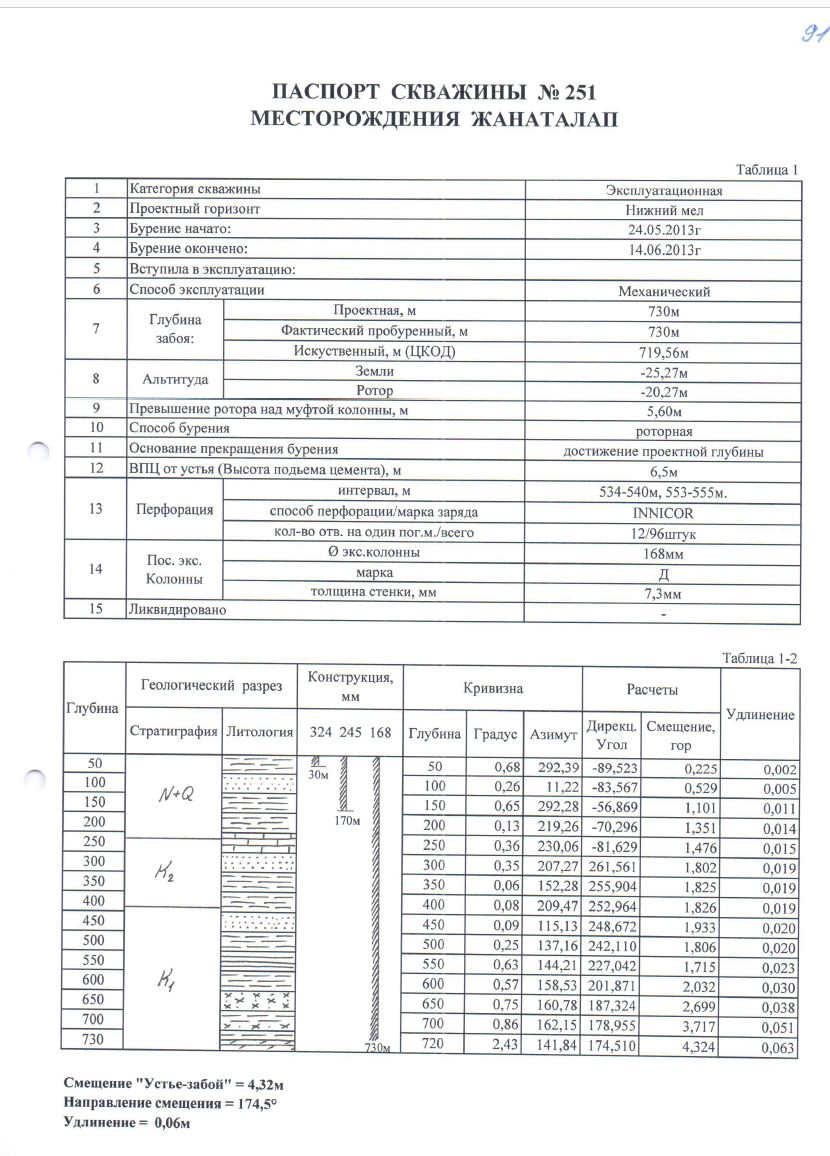Bordered: (63, 175, 803, 630), (61, 655, 801, 1062)
